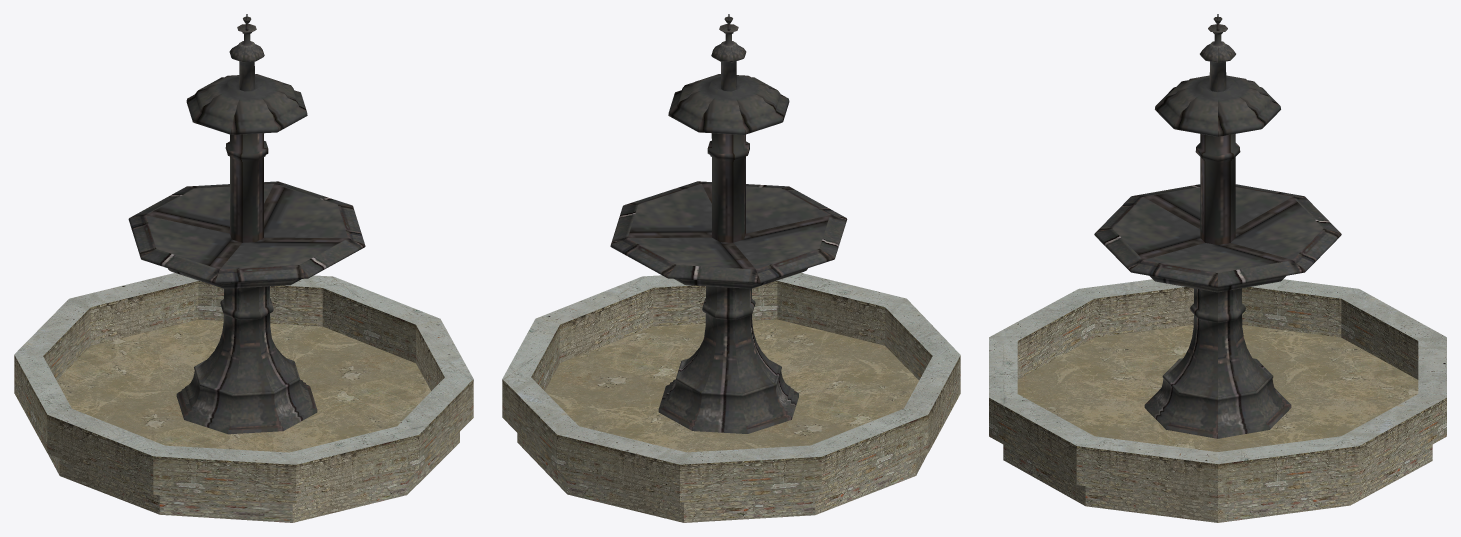
The model's file is Fountain.fbx.
3 renders of one model, left to right at view 1: azimuth 30°, elevation 25°; view 2: azimuth 150°, elevation 25°; view 3: azimuth 270°, elevation 25°, orthographic.
Visible parts, largest first — view 1: Fountain.001; view 2: Fountain.001; view 3: Fountain.001.
Part boxes in pixels (x1,y1,x2,y2): Fountain.001: [14, 14, 473, 522]; Fountain.001: [502, 14, 960, 522]; Fountain.001: [989, 14, 1446, 522].
Size of the model in its own units: 5.22 by 5.3 by 5.22.
4 materials, 4 textured.
